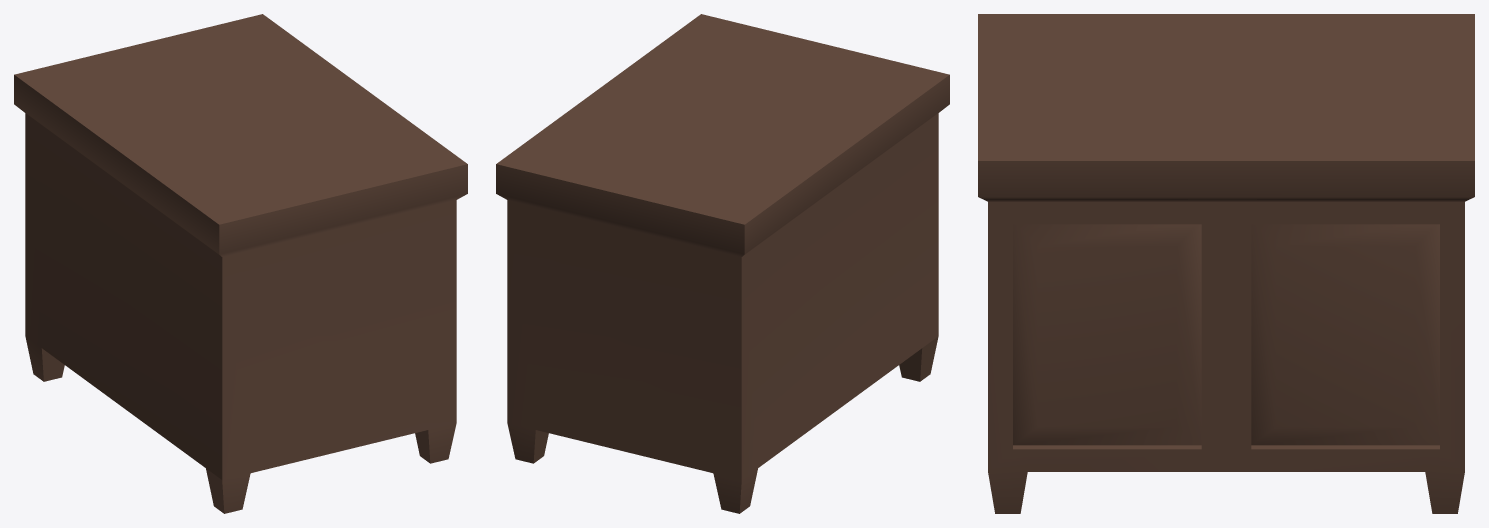
3 renders of one model, left to right at view 1: azimuth 30°, elevation 25°; view 2: azimuth 150°, elevation 25°; view 3: azimuth 270°, elevation 25°, orthographic. The views are drawn at different scales.
Visible parts, largest first — view 1: Cabinet_1x1x1_0; view 2: Cabinet_1x1x1_0; view 3: Cabinet_1x1x1_0.
Part boxes in pixels (x1,y1,x2,y2): Cabinet_1x1x1_0: (14, 14, 467, 513); Cabinet_1x1x1_0: (496, 14, 949, 513); Cabinet_1x1x1_0: (978, 14, 1474, 513).
Size of the model in its own units: 0.7 by 0.8 by 1.
